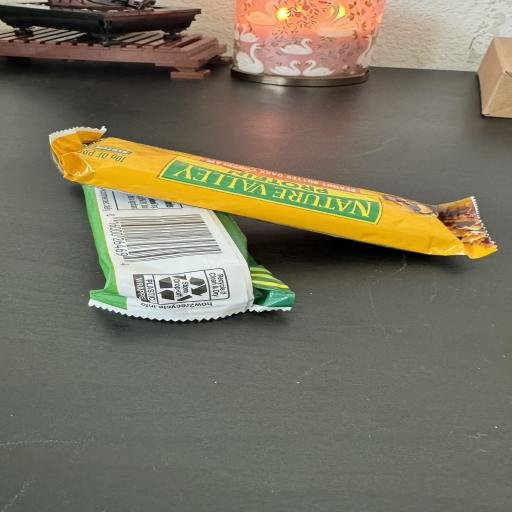granola: (50, 128, 496, 258), (84, 186, 294, 320)
